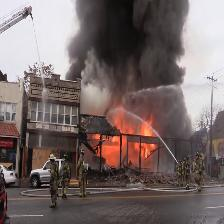fire: (112, 124, 148, 158)
smoke: (81, 2, 171, 92)
